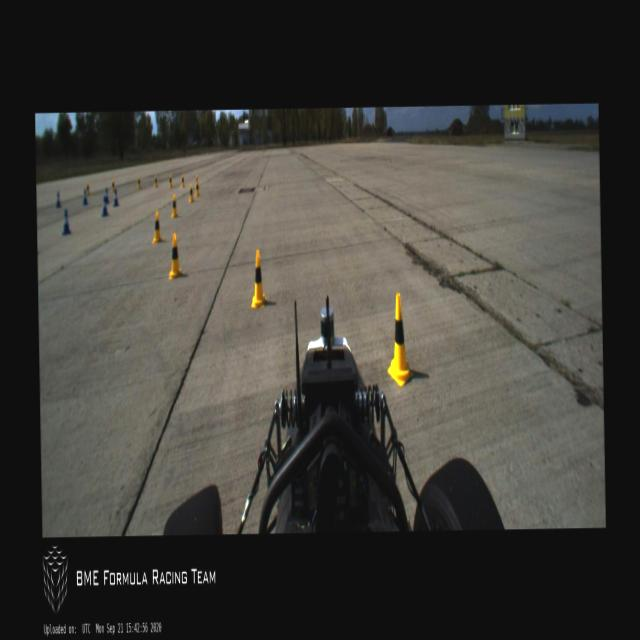blue_cone: (61, 209, 70, 234), (101, 195, 108, 218), (113, 188, 119, 207), (82, 187, 88, 206), (55, 190, 61, 208), (104, 188, 109, 204)
yellow_cone: (386, 292, 413, 385), (251, 248, 266, 308), (168, 233, 181, 280), (152, 210, 163, 244), (170, 193, 178, 218), (188, 184, 194, 202), (194, 178, 199, 198), (84, 182, 90, 196), (136, 175, 141, 189), (168, 172, 172, 188), (194, 172, 198, 187), (180, 173, 184, 187), (110, 178, 114, 192), (154, 174, 158, 186)
